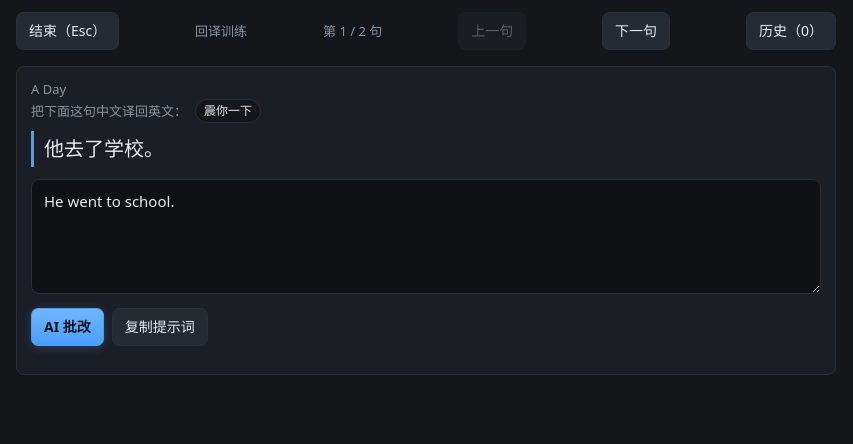
Scenario: BackTranslatePanel › 「震你一下」开关才显示原文，再点收起
Click the button "震你一下" at (228, 111), box top-left (195, 99), bottom-right (261, 123)
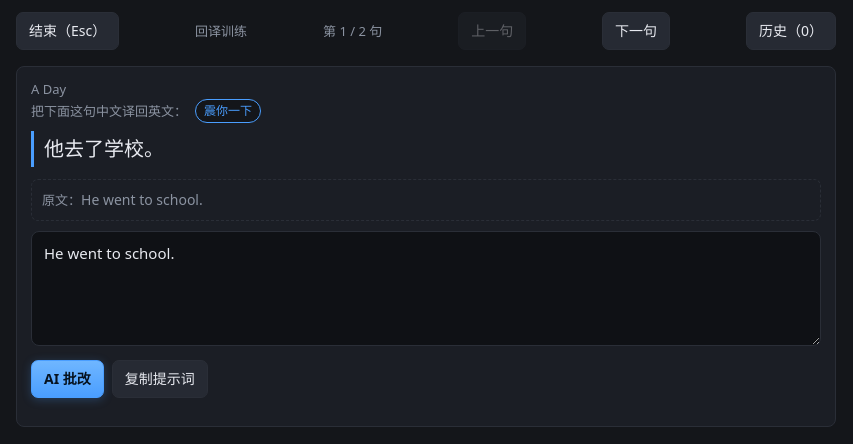
Check: the element with class "bt-original" shows "He went to school.", box top-left (81, 190), bottom-right (203, 209)
Click the button "震你一下" at (228, 111), box top-left (195, 99), bottom-right (261, 123)
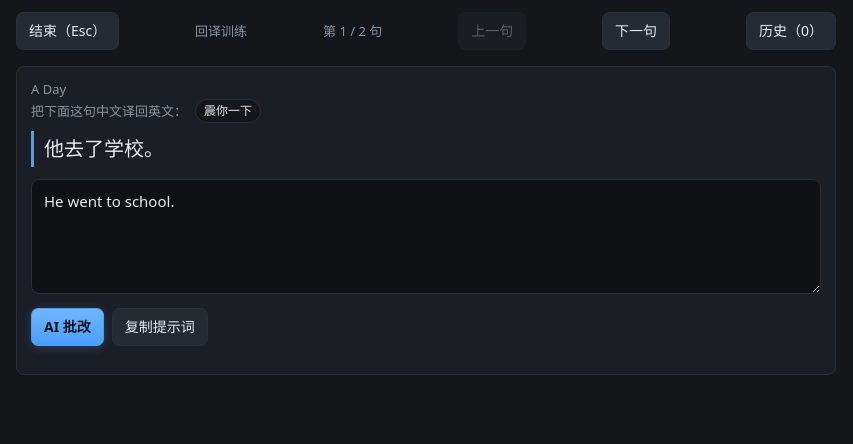
Check: the element with class "bt-original" is gone
